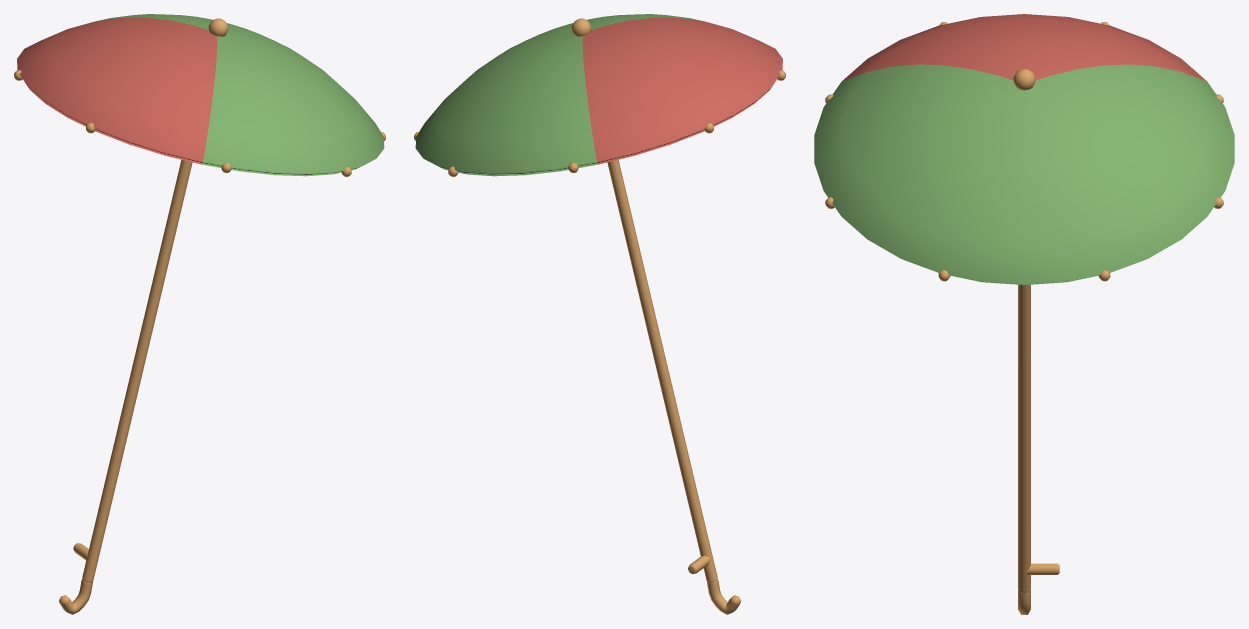
The model's file is gelato_umbrella.glb.
3 renders of one model, left to right at view 1: azimuth 30°, elevation 25°; view 2: azimuth 150°, elevation 25°; view 3: azimuth 270°, elevation 25°, orthographic. The views are drawn at different scales.
Parts seen in each view (by area): view 1: gelato_umbrella_ArmR; view 2: gelato_umbrella_ArmR; view 3: gelato_umbrella_ArmR.
Part boxes in pixels (x1,y1,x2,y2): gelato_umbrella_ArmR: [14, 14, 385, 614]; gelato_umbrella_ArmR: [414, 14, 785, 614]; gelato_umbrella_ArmR: [814, 14, 1234, 614].
Size of the model in its own units: 0.8703 by 1.47 by 0.8951.
